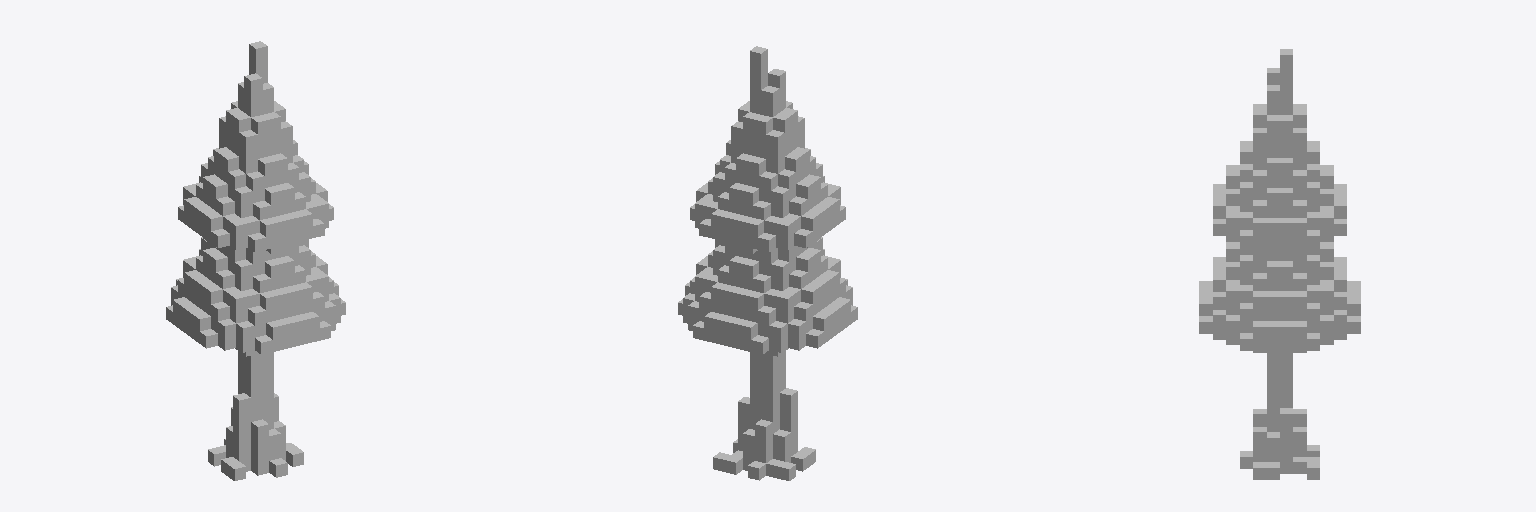
The model's file is Tree_V3.obj.
The picture shows the model from 3 angles: view 1: azimuth 30°, elevation 25°; view 2: azimuth 150°, elevation 25°; view 3: azimuth 270°, elevation 25°; orthographic projection.
Visible parts, largest first — view 1: Tree_V3; view 2: Tree_V3; view 3: Tree_V3.
Boxes of the visible parts, x1,y1,x2,y2 form: Tree_V3: [166, 41, 345, 480]; Tree_V3: [678, 46, 857, 480]; Tree_V3: [1199, 49, 1360, 479].
Size of the model in its own units: 12 by 34 by 12.